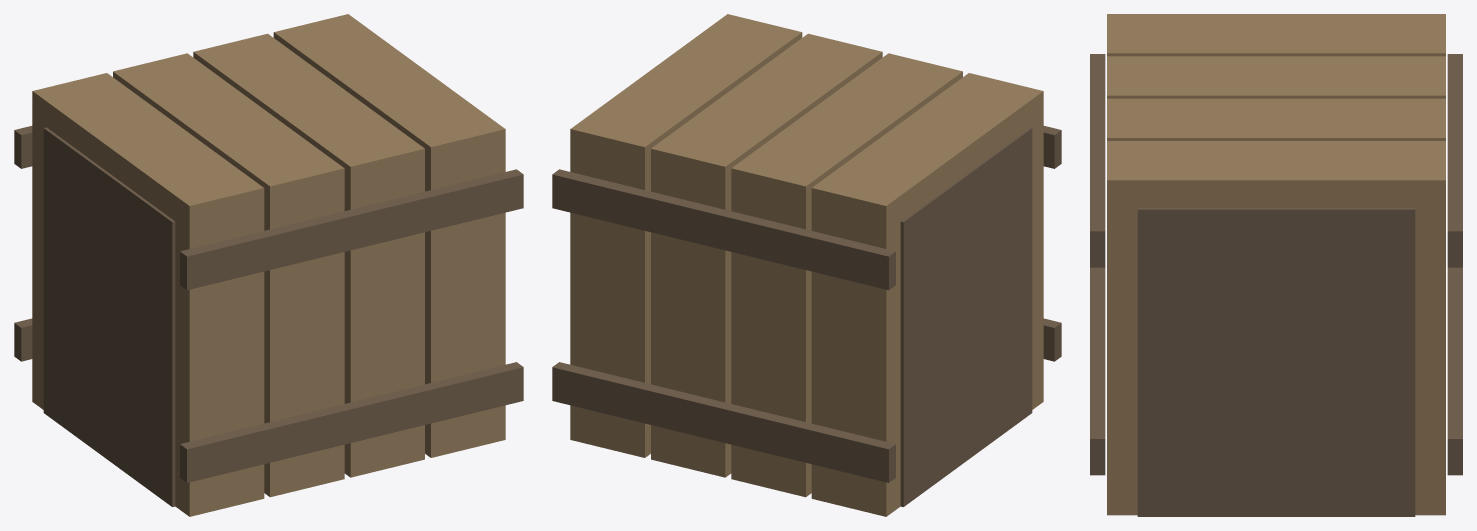
Rendered from prop_crate_a.glb.
3 renders of one model, left to right at view 1: azimuth 30°, elevation 25°; view 2: azimuth 150°, elevation 25°; view 3: azimuth 270°, elevation 25°, orthographic. The views are drawn at different scales.
Visible parts, largest first — view 1: LOD0; view 2: LOD0; view 3: LOD0.
Part boxes in pixels (box(x1,y1,x2,y2)): LOD0: box(14, 14, 523, 516); LOD0: box(552, 14, 1061, 516); LOD0: box(1090, 14, 1462, 516).
Size of the model in its own units: 0.68 by 0.6 by 0.605.
